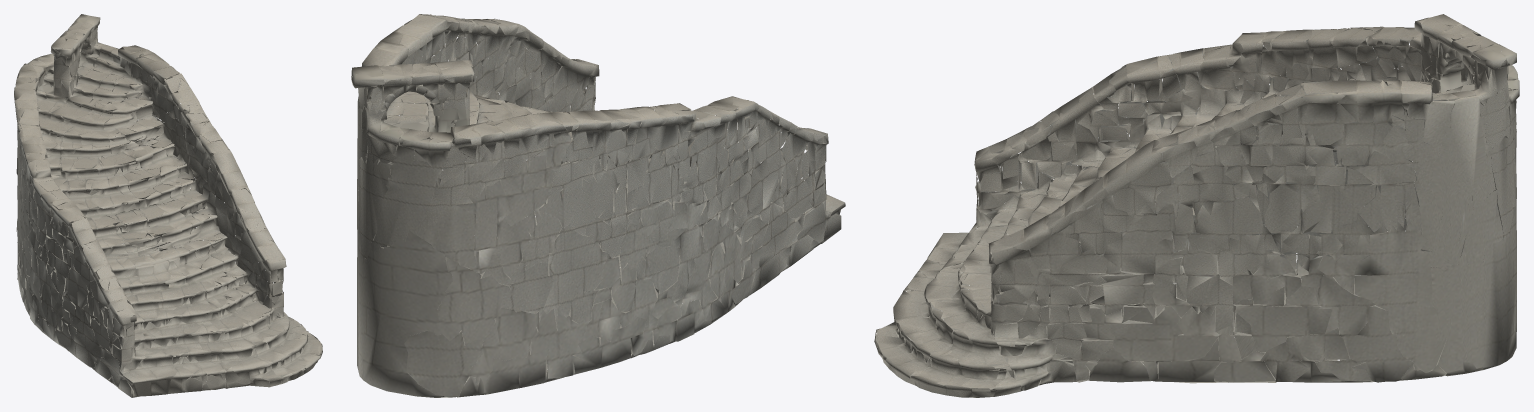
File: scala_meshy_tex.glb
3 views of the same model, side by side, from view 1: azimuth 30°, elevation 25°; view 2: azimuth 150°, elevation 25°; view 3: azimuth 270°, elevation 25° (orthographic). The views are drawn at different scales.
Visible parts, largest first — view 1: ScalaMeshyTex; view 2: ScalaMeshyTex; view 3: ScalaMeshyTex.
Part boxes in pixels (bbox=[...]): ScalaMeshyTex: bbox=[14, 14, 322, 397]; ScalaMeshyTex: bbox=[351, 14, 845, 397]; ScalaMeshyTex: bbox=[874, 14, 1519, 397].
Size of the model in its own units: 2.95 by 3.01 by 5.64.
1 material, 1 textured.
